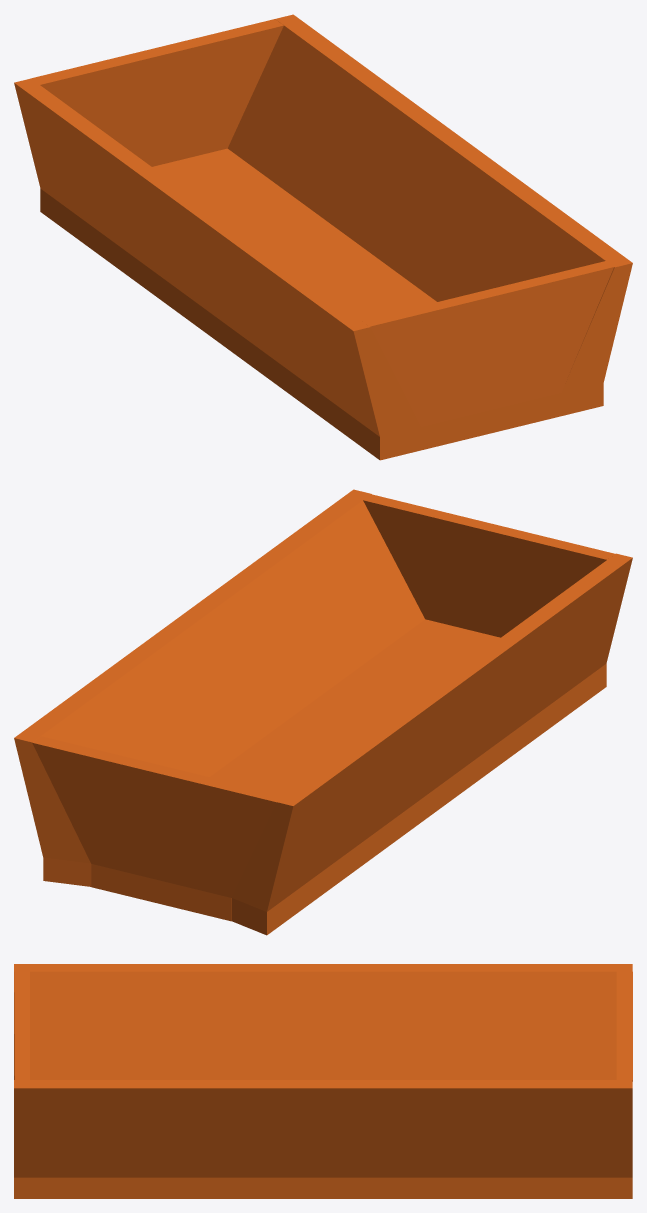
Rendered from drinking_bowl.fbx.
The picture shows the model from 3 angles, top to bottom: view 1: azimuth 30°, elevation 25°; view 2: azimuth 150°, elevation 25°; view 3: azimuth 270°, elevation 25°; orthographic projection. The views are drawn at different scales.
Parts seen in each view (by area): view 1: Cube; view 2: Cube; view 3: Cube.
Boxes of the visible parts, box(x1,y1,x2,y2) form: Cube: box(14, 14, 632, 460); Cube: box(14, 489, 632, 935); Cube: box(14, 964, 632, 1198).
Size of the model in its own units: 168 by 78.1 by 354.
